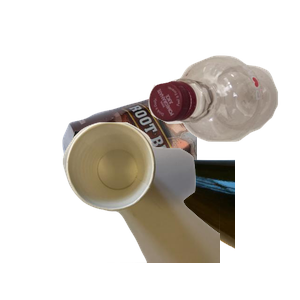glass: (60, 128, 300, 300)
metal: (60, 79, 300, 259)
plastic: (146, 53, 300, 187)
trash: (60, 120, 300, 300)
